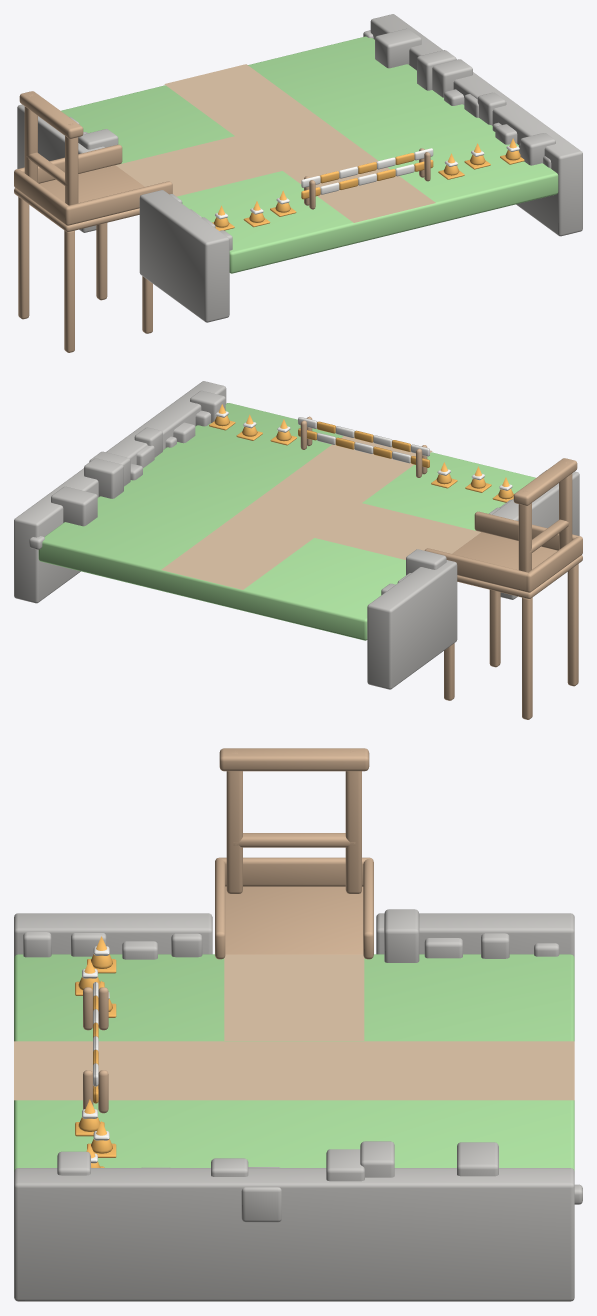
File: chunk_fork.glb
3 views of the same model, one above another, from view 1: azimuth 30°, elevation 25°; view 2: azimuth 150°, elevation 25°; view 3: azimuth 270°, elevation 25° (orthographic). The views are drawn at different scales.
Parts seen in each view (by area): view 1: Chunk_Fork_surface, Chunk_Fork_path_up, Chunk_Fork_cliff_whi, Chunk_Fork_cliff, Chunk_Fork_path_zip, Chunk_Fork_zipdeck_surface, Chunk_Fork_ziprail_n_cliff, Chunk_Fork_cliff_wlo, Chunk_Fork_zipdeck_leg0, Chunk_Fork_rock_r2, Chunk_Fork_zipdeck_leg1, Chunk_Fork_ziprail_end_cliff (+12 smaller); view 2: Chunk_Fork_surface, Chunk_Fork_path_up, Chunk_Fork_cliff_wlo, Chunk_Fork_cliff, Chunk_Fork_path_zip, Chunk_Fork_zipdeck_surface, Chunk_Fork_cliff_whi, Chunk_Fork_ziprail_s_cliff, Chunk_Fork_zipdeck_leg1, Chunk_Fork_rock_r2, Chunk_Fork_zipdeck_leg0, Chunk_Fork_ziprail_end_cliff (+12 smaller); view 3: Chunk_Fork_cliff, Chunk_Fork_surface, Chunk_Fork_path_up, Chunk_Fork_path_zip, Chunk_Fork_zipdeck_surface, Chunk_Fork_cliff_whi, Chunk_Fork_cliff_wlo, Chunk_Fork_ziptower_beam, Chunk_Fork_ziprail_end_cliff, Chunk_Fork_ziptower_post_b, Chunk_Fork_ziptower_post_a, Chunk_Fork_rock_l3 (+13 smaller).
Boxes of the visible parts, left/top/right/bottom form: Chunk_Fork_surface: left=61, top=36, right=558, bottom=273; Chunk_Fork_path_up: left=164, top=64, right=435, bottom=222; Chunk_Fork_cliff_whi: left=139, top=190, right=229, bottom=322; Chunk_Fork_cliff: left=370, top=14, right=582, bottom=236; Chunk_Fork_path_zip: left=116, top=136, right=282, bottom=196; Chunk_Fork_zipdeck_surface: left=14, top=165, right=144, bottom=231; Chunk_Fork_ziprail_n_cliff: left=65, top=181, right=172, bottom=225; Chunk_Fork_cliff_wlo: left=17, top=104, right=104, bottom=232; Chunk_Fork_zipdeck_leg0: left=18, top=197, right=29, bottom=319; Chunk_Fork_rock_r2: left=375, top=28, right=421, bottom=68; Chunk_Fork_zipdeck_leg1: left=64, top=230, right=74, bottom=352; Chunk_Fork_ziprail_end_cliff: left=14, top=169, right=70, bottom=225; Chunk_Fork_surface: left=38, top=403, right=535, bottom=640; Chunk_Fork_path_up: left=161, top=436, right=432, bottom=589; Chunk_Fork_cliff_wlo: left=367, top=560, right=457, bottom=689; Chunk_Fork_cliff: left=14, top=381, right=226, bottom=603; Chunk_Fork_path_zip: left=314, top=503, right=480, bottom=559; Chunk_Fork_zipdeck_surface: left=452, top=532, right=582, bottom=598; Chunk_Fork_cliff_whi: left=492, top=471, right=579, bottom=599; Chunk_Fork_ziprail_s_cliff: left=425, top=548, right=528, bottom=592; Chunk_Fork_zipdeck_leg1: left=567, top=564, right=578, bottom=686; Chunk_Fork_rock_r2: left=51, top=486, right=97, bottom=526; Chunk_Fork_zipdeck_leg0: left=522, top=597, right=532, bottom=719; Chunk_Fork_ziprail_end_cliff: left=526, top=536, right=582, bottom=592; Chunk_Fork_cliff: left=14, top=1168, right=574, bottom=1301; Chunk_Fork_surface: left=14, top=954, right=574, bottom=1171; Chunk_Fork_path_up: left=14, top=1041, right=574, bottom=1100; Chunk_Fork_path_zip: left=224, top=954, right=364, bottom=1040; Chunk_Fork_zipdeck_surface: left=225, top=886, right=363, bottom=954; Chunk_Fork_cliff_whi: left=14, top=913, right=212, bottom=957; Chunk_Fork_cliff_wlo: left=376, top=913, right=574, bottom=957; Chunk_Fork_ziptower_beam: left=219, top=748, right=369, bottom=771; Chunk_Fork_ziprail_end_cliff: left=216, top=857, right=373, bottom=886; Chunk_Fork_ziptower_post_b: left=226, top=750, right=242, bottom=893; Chunk_Fork_ziptower_post_a: left=345, top=751, right=361, bottom=893; Chunk_Fork_rock_l3: left=384, top=909, right=419, bottom=962.
Size of the model in its own units: 32.94 by 15.6 by 24.35.
